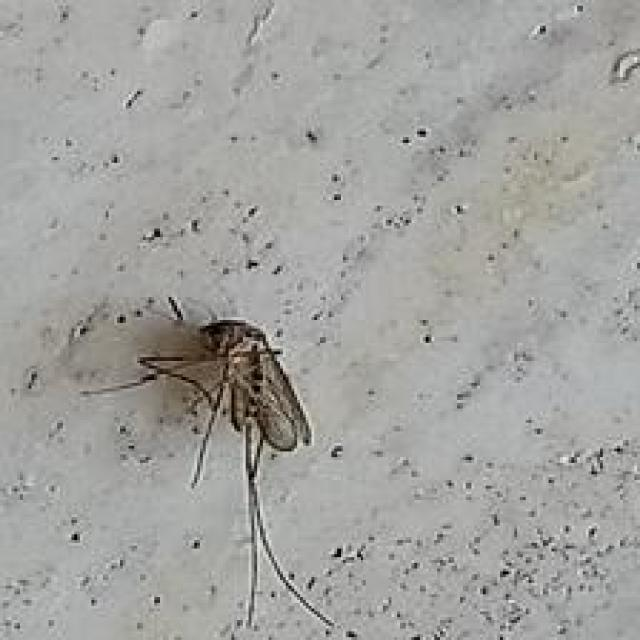Culex: (79, 296, 338, 630)
